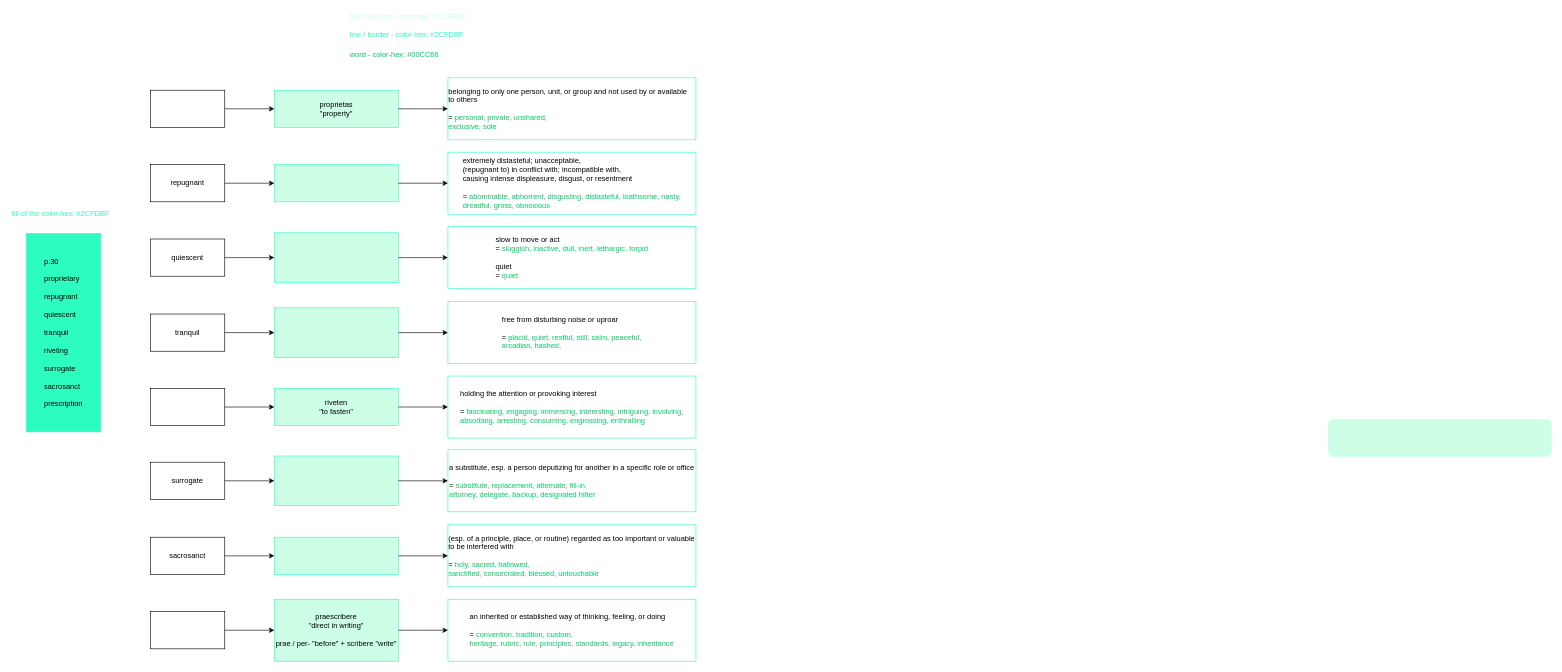
Some shapes in this 1562 by 672 pixel diagram are drawn without their labels. Each missing label, with the box of its shape:
log transformation: (1328, 419, 1552, 457)
prescription: (150, 611, 225, 649)
proprietary: (150, 90, 225, 127)
quiescent- "being still" quiescere / quies "quiet": (274, 232, 398, 282)
repugnare / repugnant- "opposing": (274, 164, 398, 202)
riveting: (150, 388, 225, 426)
sanctus "holy" sacro "by a sacred rite(宗教儀式)": (274, 537, 398, 574)
surrogare "elect as a substitute" super- "over" + rogare "ask": (274, 455, 398, 506)
tranquillus "quiet, calm, still": (274, 307, 398, 357)
